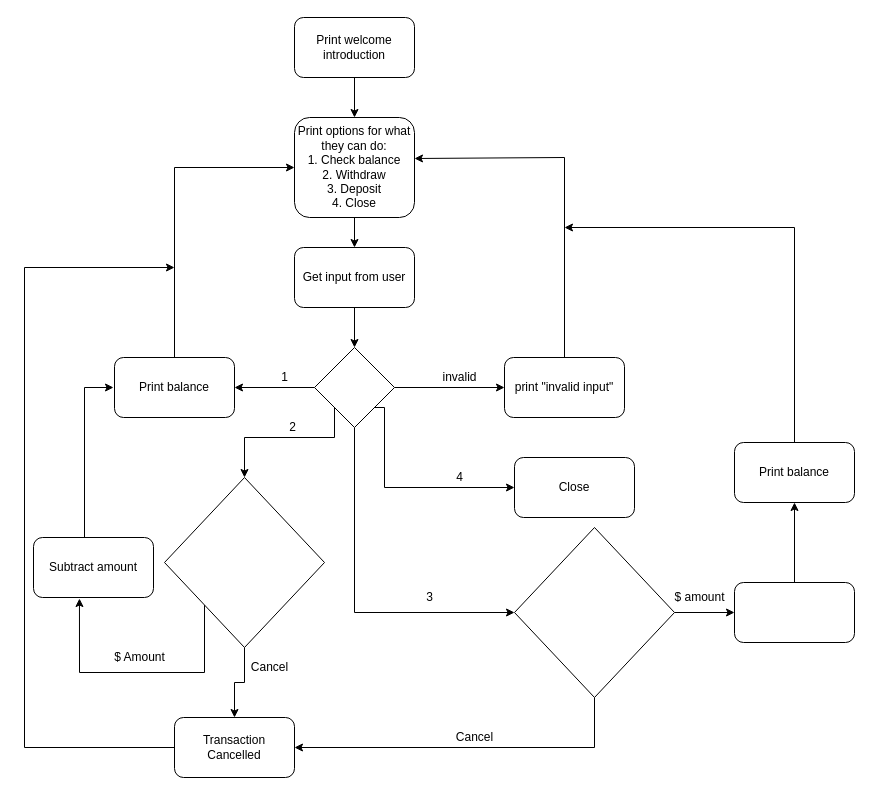
This 872x795 diagram has some shape labels left out. Each missing label, with the centre of its shape:
"Add amount" belongs at [794,612].
"How much do you want to deposit?" belongs at [594,612].
"How much do you want to withdraw?" belongs at [244,562].
"input?" belongs at [354,387].
